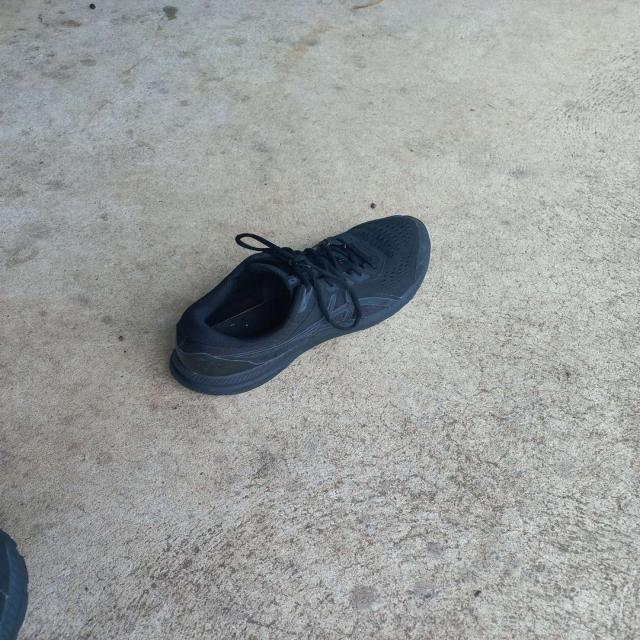shoes: (168, 214, 433, 396)
